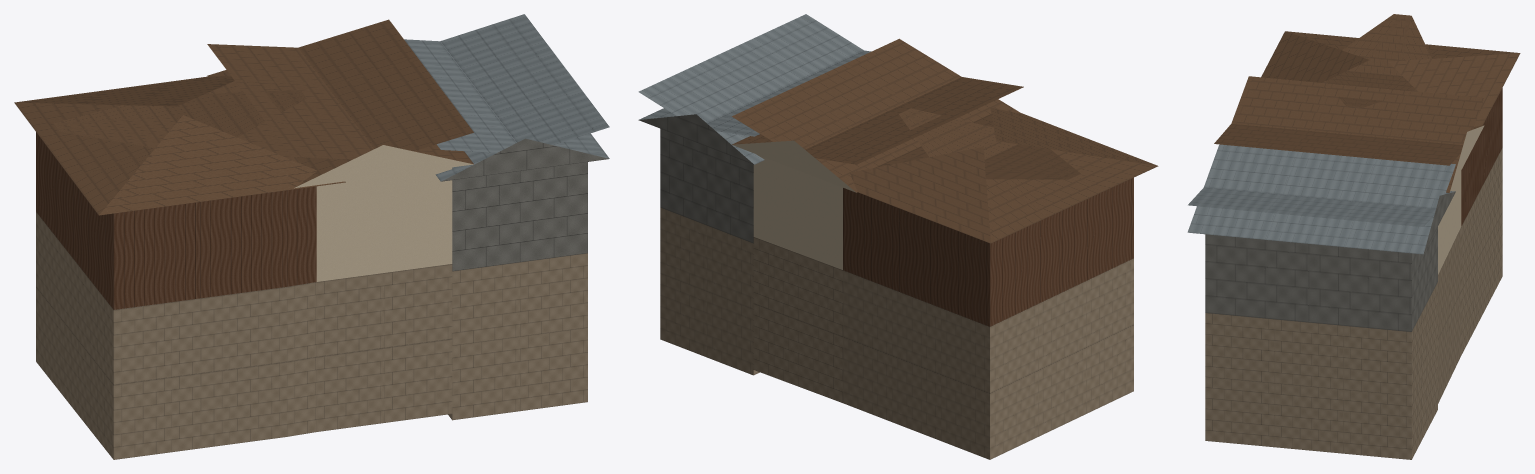
Rendered from bld_c-9_17_628.gltf.
The picture shows the model from 3 angles, left to right: view 1: azimuth 30°, elevation 25°; view 2: azimuth 150°, elevation 25°; view 3: azimuth 270°, elevation 25°; orthographic projection. The views are drawn at different scales.
Parts seen in each view (by area): view 1: bld_c-9_17_628; view 2: bld_c-9_17_628; view 3: bld_c-9_17_628.
Boxes of the visible parts, <box> form: bld_c-9_17_628: <box>14,14,609,459</box>; bld_c-9_17_628: <box>638,14,1158,459</box>; bld_c-9_17_628: <box>1187,14,1520,459</box>.
Size of the model in its own units: 16.67 by 9.2 by 11.05.
8 materials, 8 textured.
